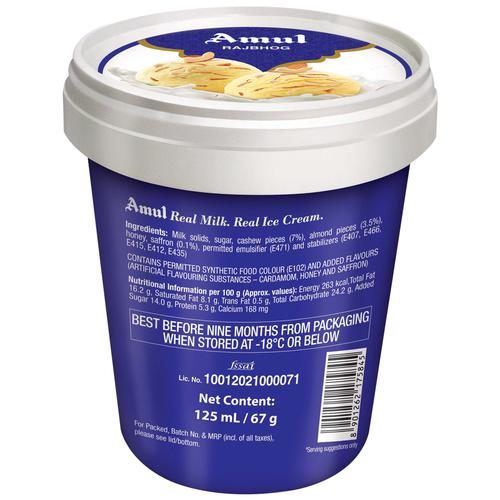Amul: (200, 22, 313, 49), (122, 196, 169, 223)
